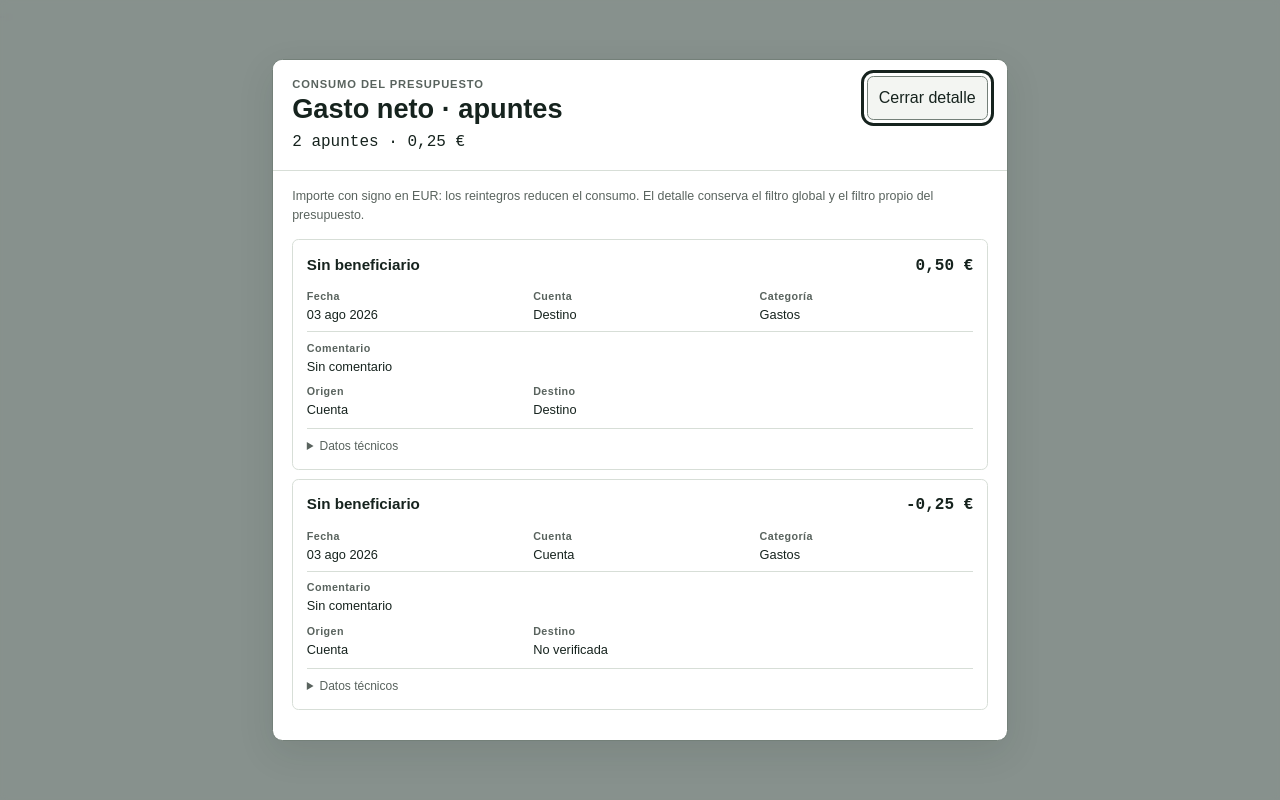
Test case: BudgetConsumptionDialog › resolves incoming and missing peers without guessing their counterpart account
This screenshot has width=1280, height=800.
Expected: the 3rd text "Destino" is shown, [533, 402, 577, 417]
Expected: the text "0,50 €" is shown, [916, 254, 973, 278]
Click the heading "Datos técnicos" below "No verificada".
click(352, 686)  # box [307, 677, 398, 695]
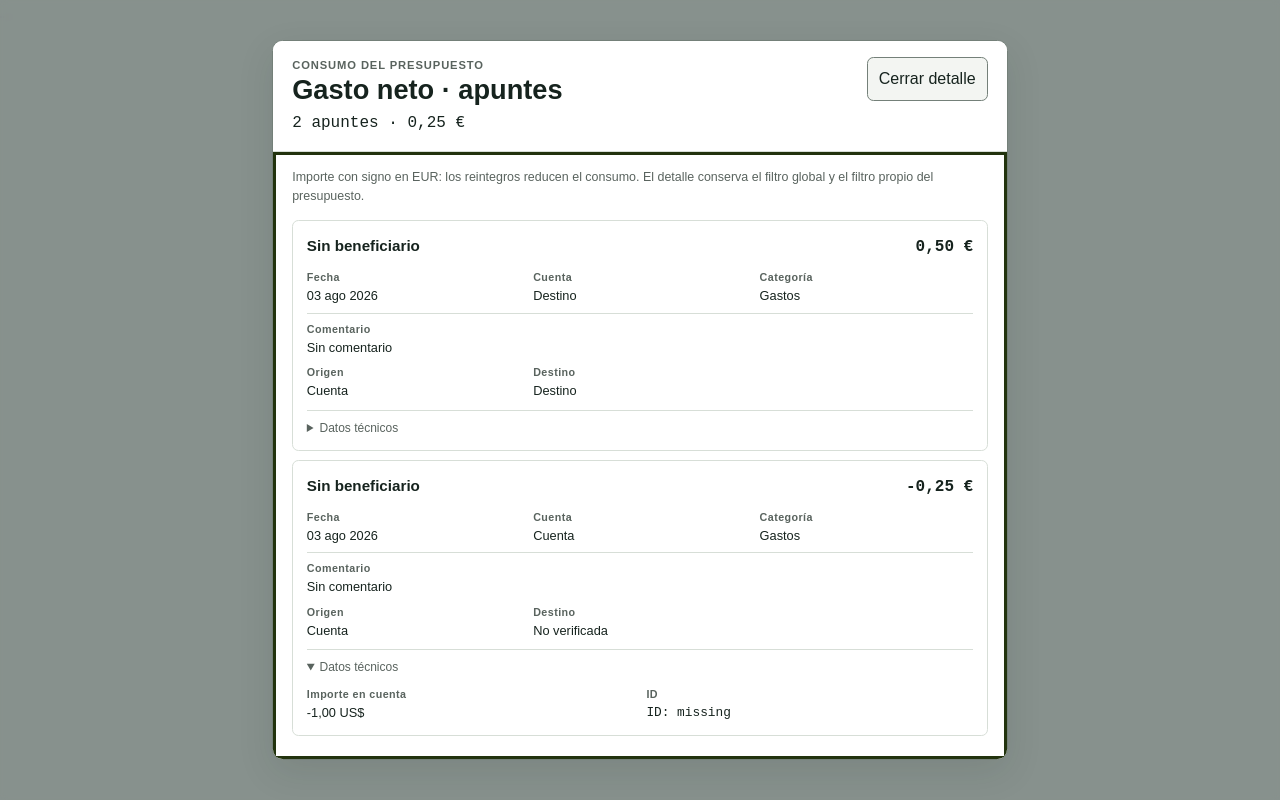
Expected: the text "ID: missing" is shown, [646, 705, 731, 720]
